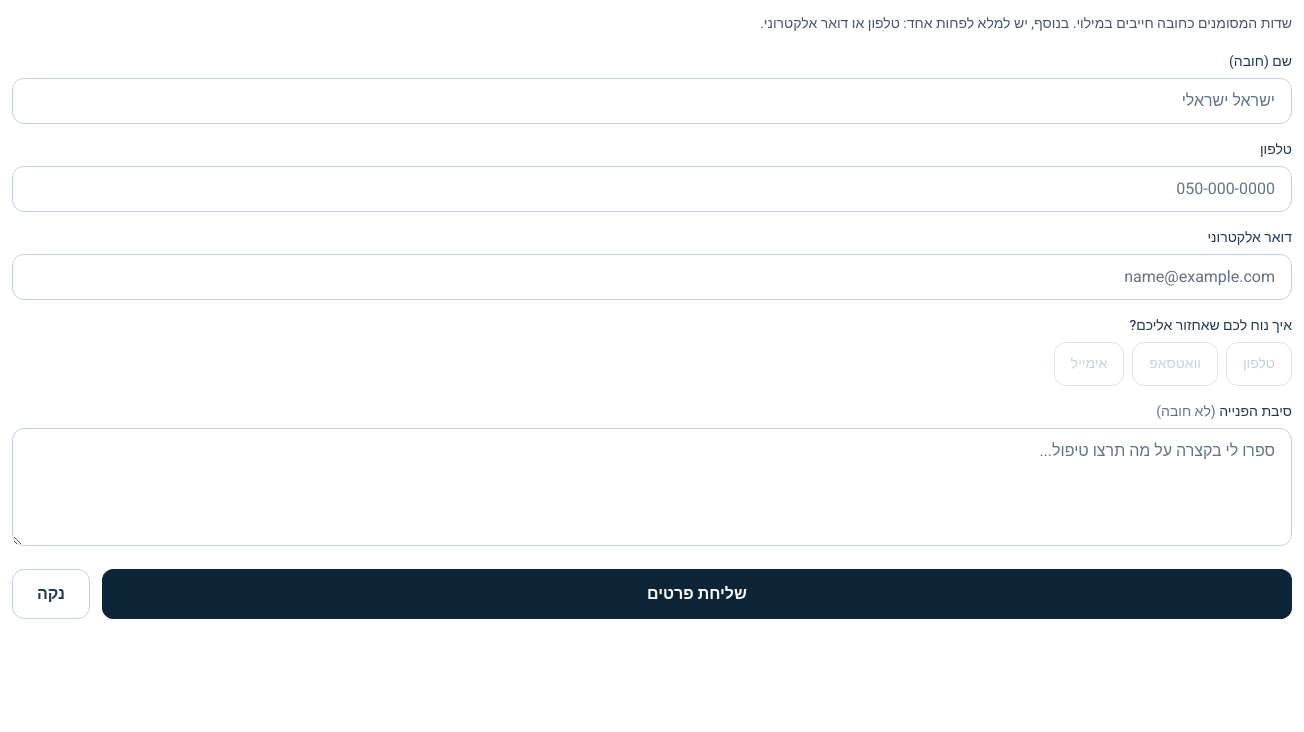
Test: ContactForm › does not send when the public form key is missing
Type "ישראל" into the field labelled "שם (חובה)". click: {"x": 652, "y": 101}
box: left=12, top=78, right=1292, bottom=124
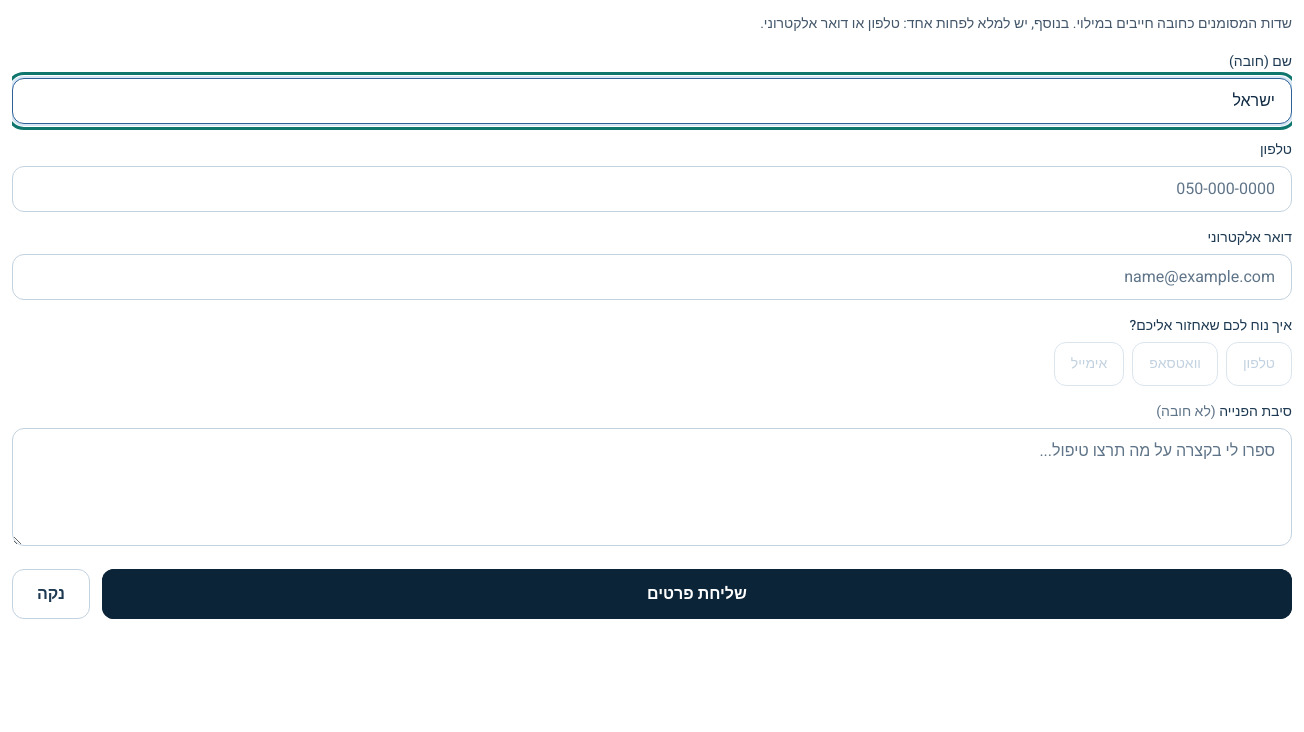
Type "0505449477" into the field labelled "טלפון". click: {"x": 652, "y": 189}
box: left=12, top=166, right=1292, bottom=212
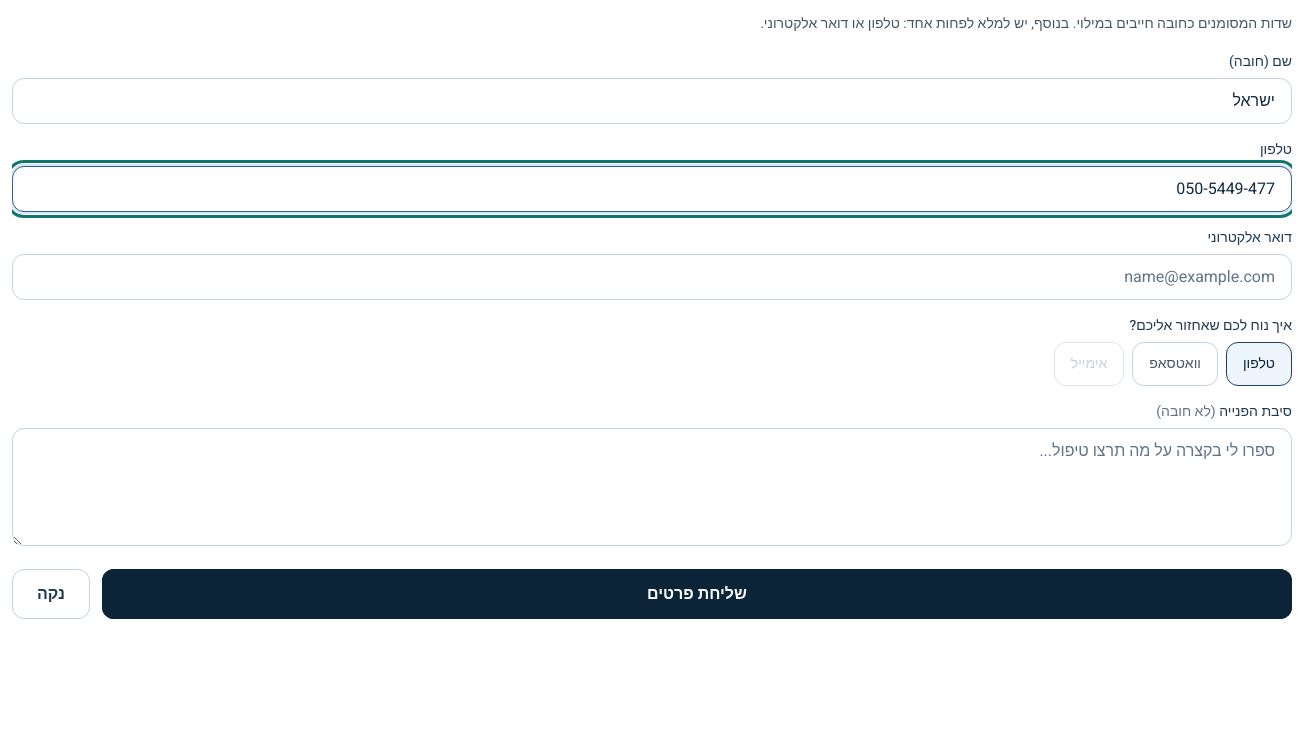
Click the button "שליחת פרטים". click: {"x": 697, "y": 594}
box: left=102, top=569, right=1292, bottom=619
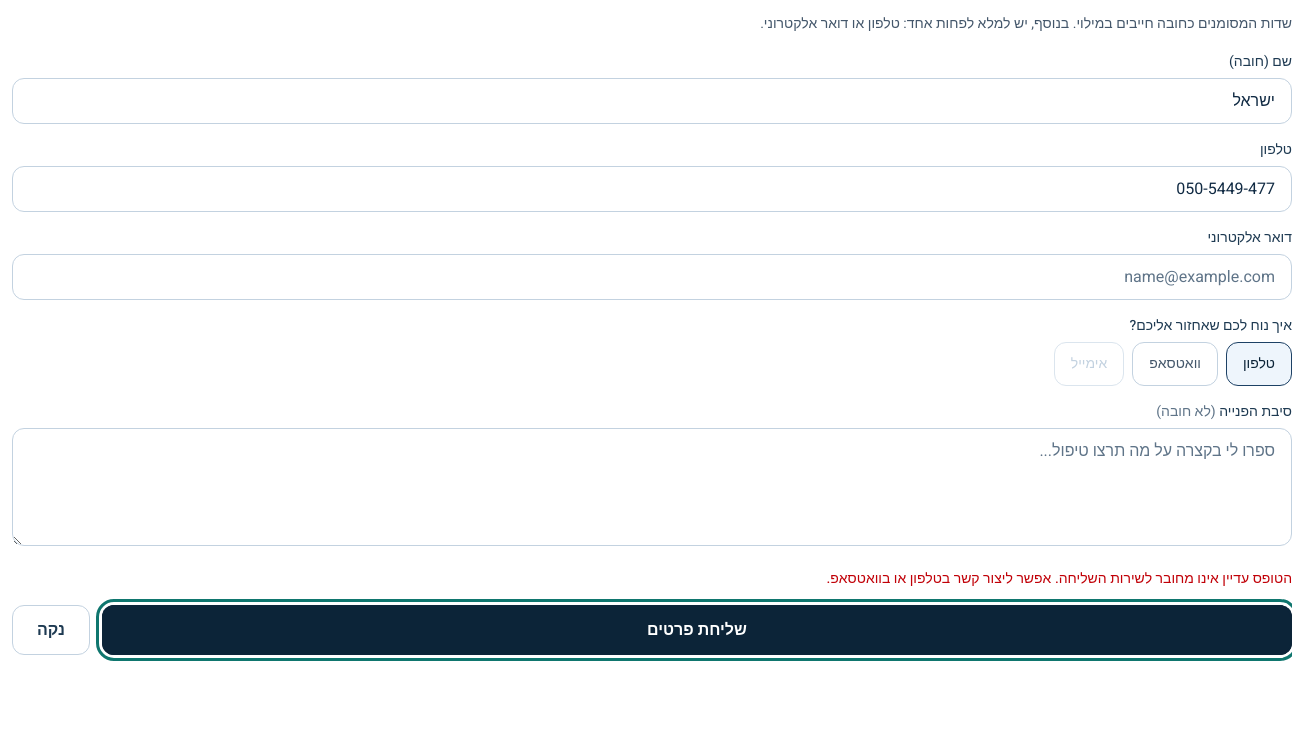
Now the message shows "הטופס עדיין אינו מחובר", box left=826, top=568, right=1292, bottom=589
